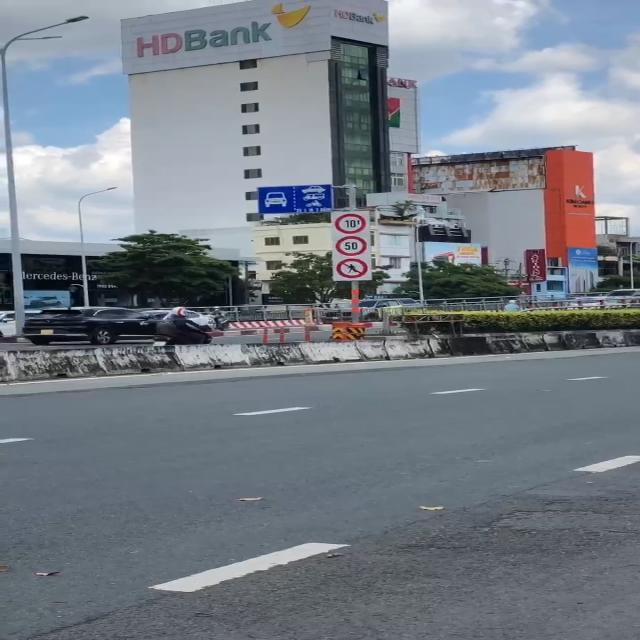Bien bao cam nguoi di bo: (333, 258, 373, 280)
Bien bao toc do toi da cho phep: (335, 236, 368, 256)
